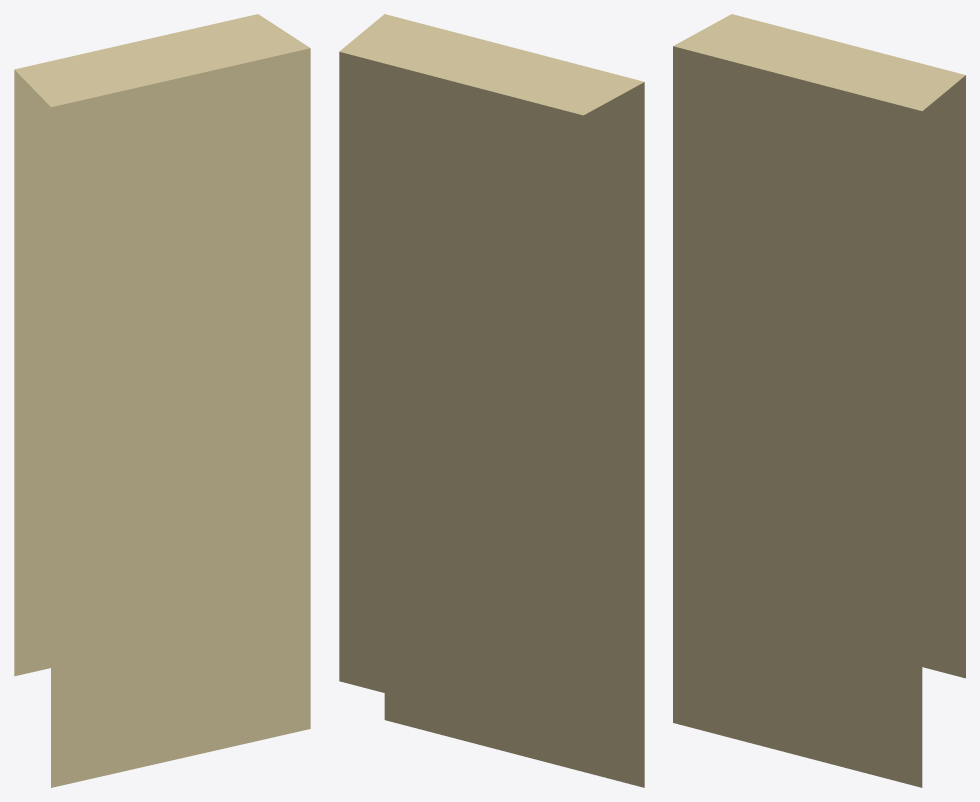
The model's file is wall1.fbx.
3 views of the same model, side by side, from view 1: azimuth 30°, elevation 25°; view 2: azimuth 150°, elevation 25°; view 3: azimuth 330°, elevation 25° (orthographic). The views are drawn at different scales.
Visible parts, largest first — view 1: duvar.036; view 2: duvar.036; view 3: duvar.036.
Part boxes in pixels (x1=…): duvar.036: x1=14, y1=14, x2=310, y2=787; duvar.036: x1=339, y1=14, x2=644, y2=787; duvar.036: x1=673, y1=14, x2=965, y2=787.
Size of the model in its own units: 17.65 by 44.99 by 6.27.
